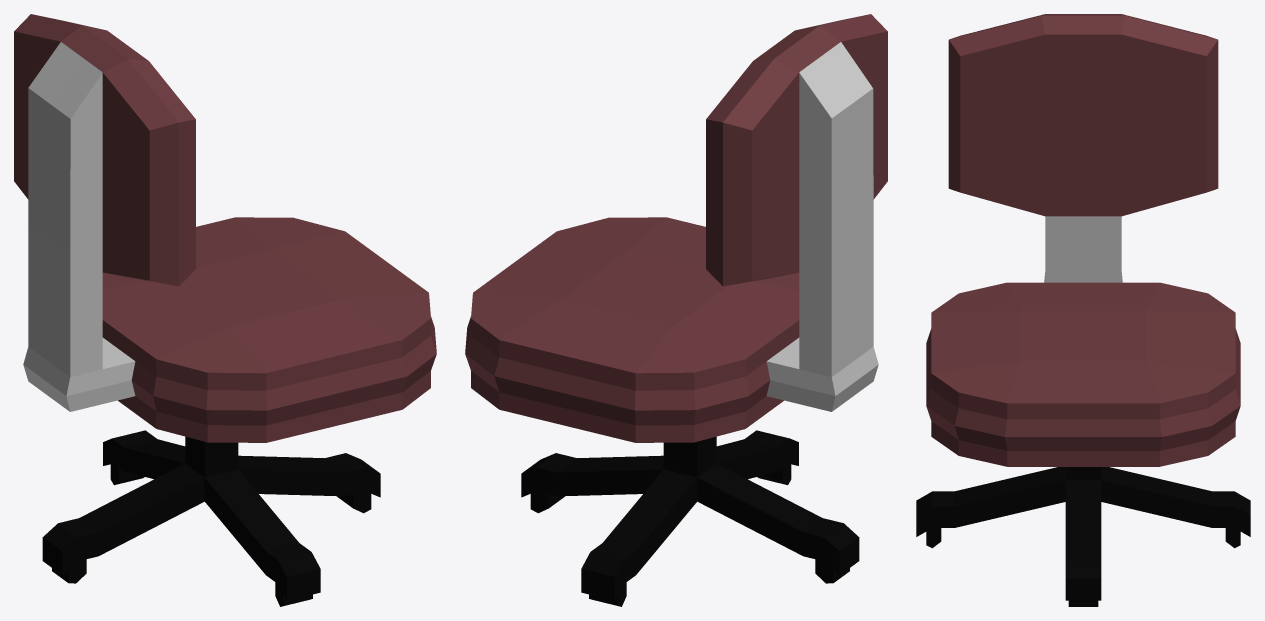
Rendered from Stol.fbx.
3 renders of one model, left to right at view 1: azimuth 30°, elevation 25°; view 2: azimuth 150°, elevation 25°; view 3: azimuth 270°, elevation 25°, orthographic. The views are drawn at different scales.
Parts seen in each view (by area): view 1: Cube.009; view 2: Cube.009; view 3: Cube.009.
Boxes of the visible parts, box(x1,y1,x2,y2) form: Cube.009: box(14, 14, 436, 606); Cube.009: box(465, 14, 887, 606); Cube.009: box(916, 14, 1250, 606).
Bounding box in the file's own units: 78.41 × 114 × 72.07.
